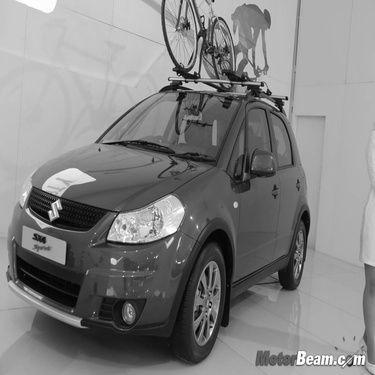car: (4, 67, 316, 368)
